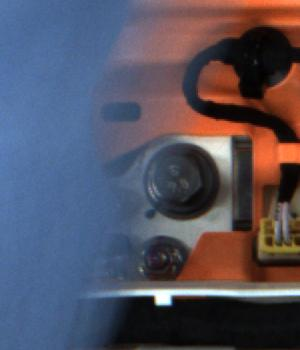nut_b: (140, 143, 220, 220)
